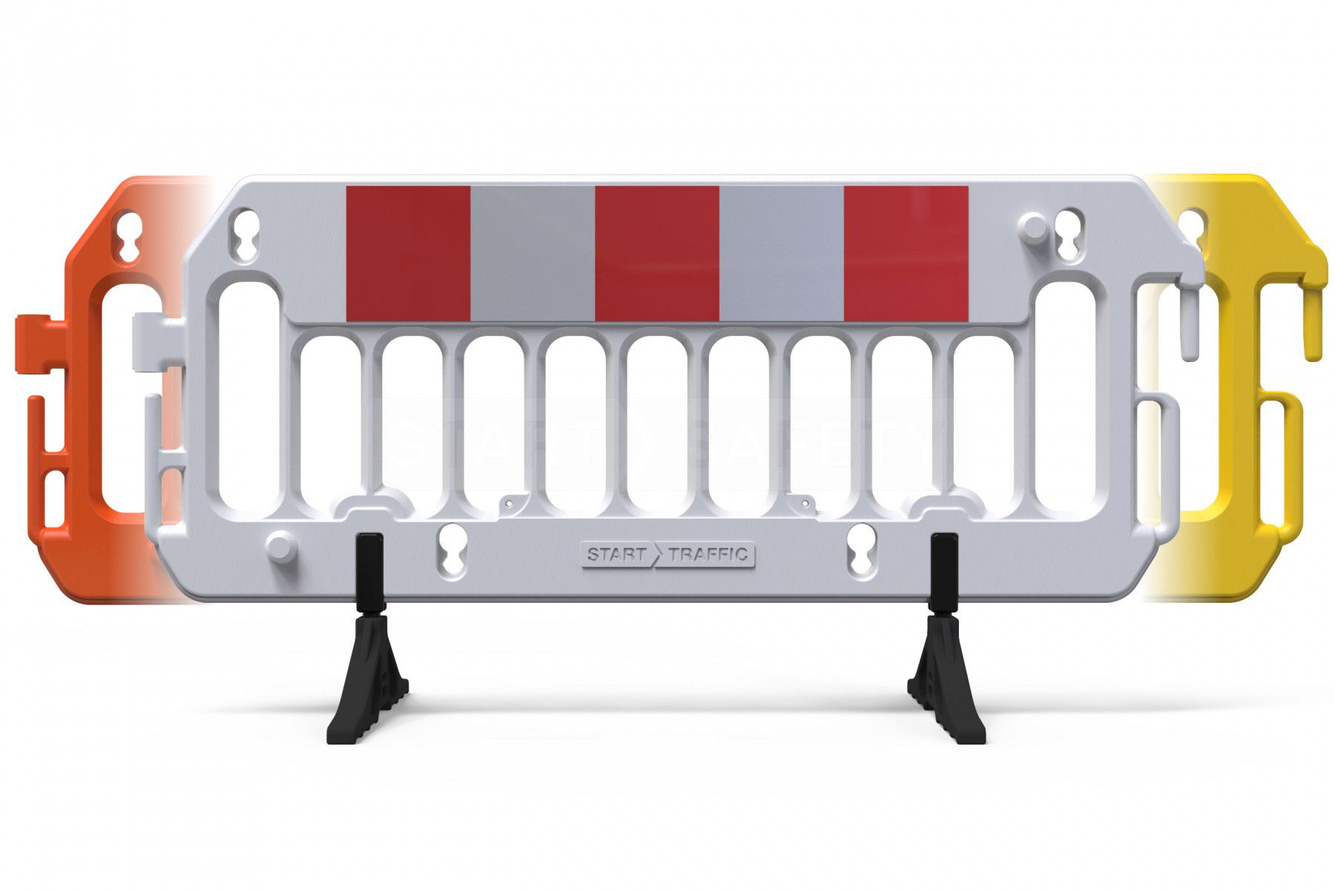Barrier: (5, 156, 1335, 754)
